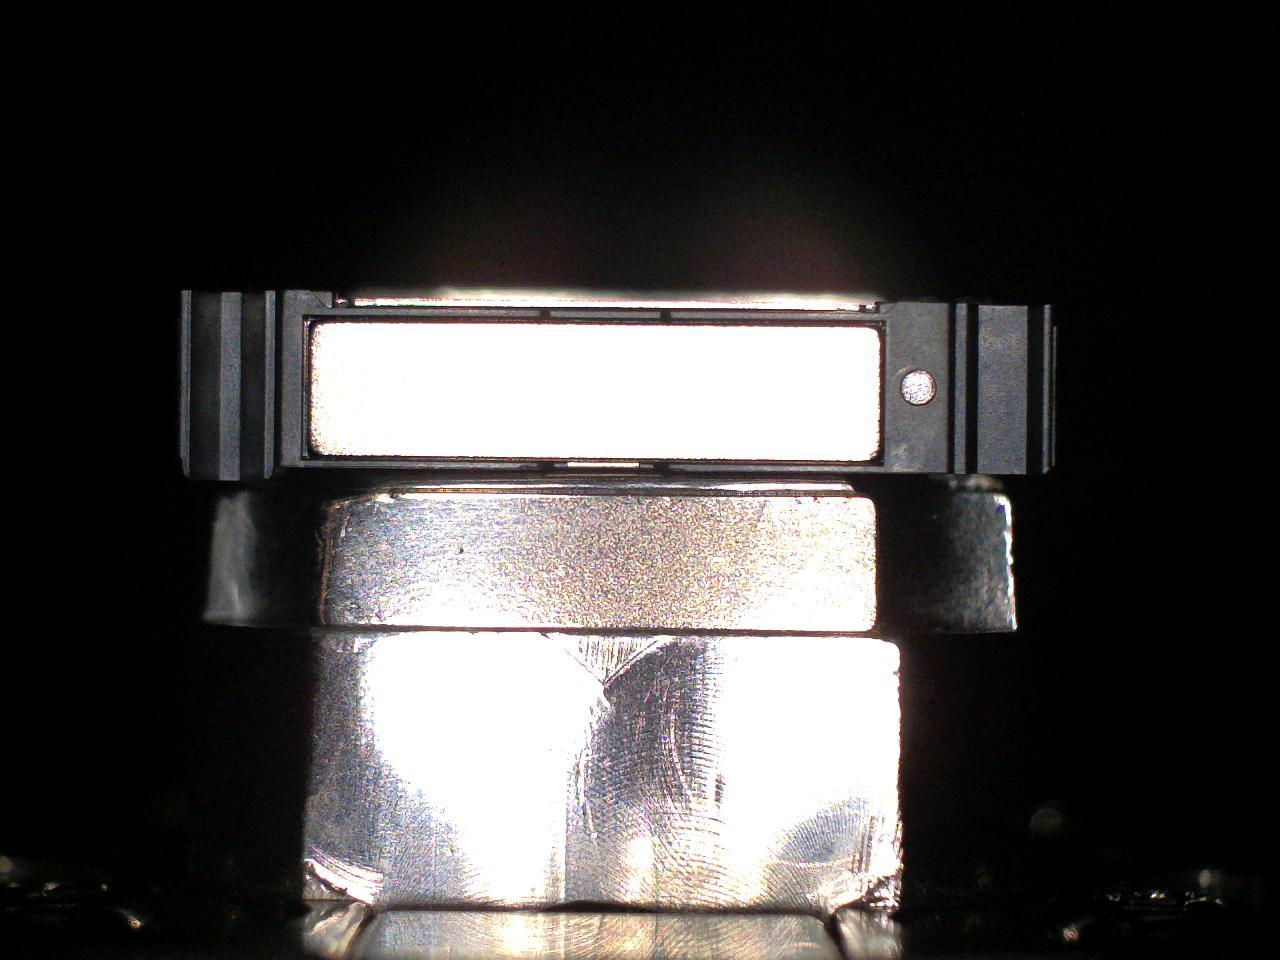frame: (180, 290, 1058, 481), (551, 464, 656, 471)
gap: (303, 316, 541, 325), (666, 458, 883, 467), (671, 320, 885, 329), (301, 455, 538, 462), (549, 318, 662, 326), (552, 457, 654, 463)
magnetic: (310, 324, 879, 460)
